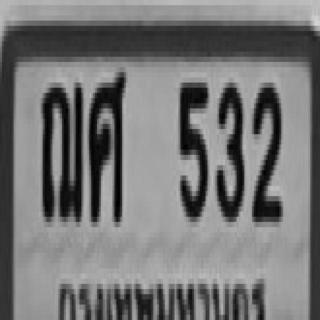A12: (41, 77, 81, 217)
A38: (87, 67, 124, 217)
N02: (250, 77, 279, 217)
N03: (215, 77, 242, 217)
N05: (178, 77, 206, 217)
